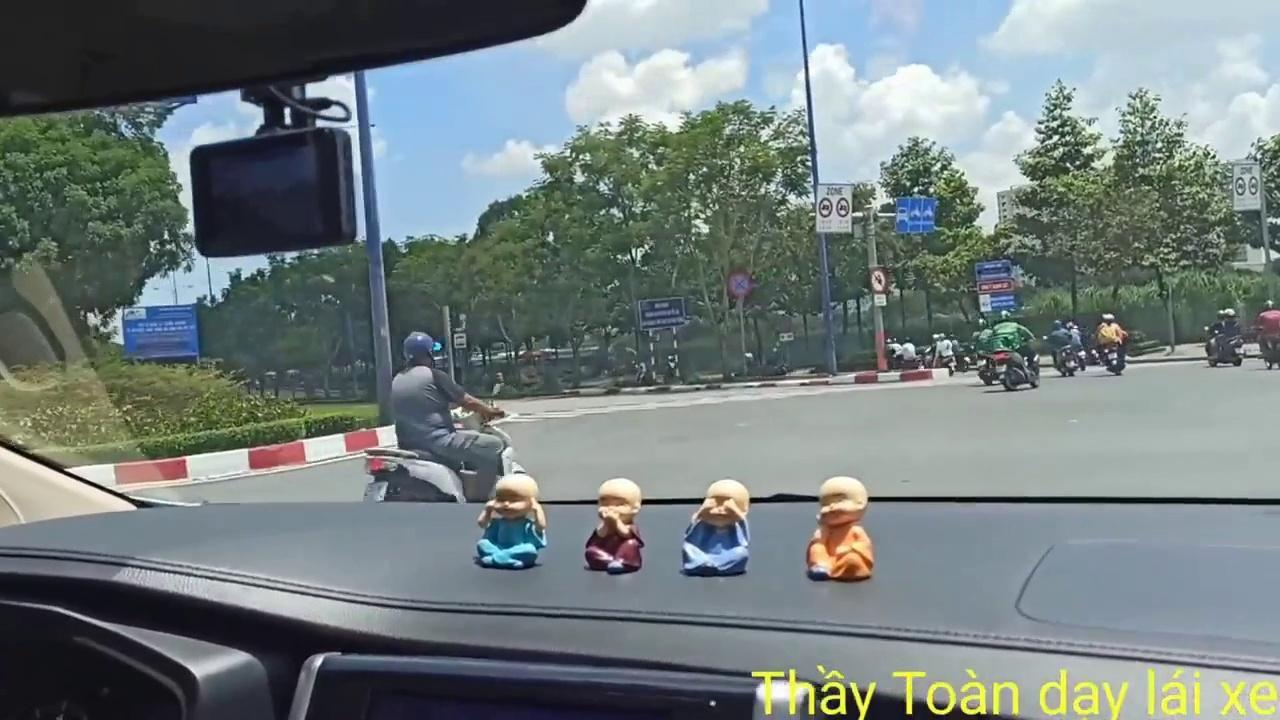Biển phụ: (454, 333, 467, 349)
Cấm cac phương tiện hoạt động trong khung giờ cố định: (814, 180, 853, 235)
Cấm dừng - Cấm đỗ: (727, 268, 751, 297)
Cấm xe máy: (868, 265, 890, 294)
Khác: (120, 302, 204, 362), (974, 259, 1017, 312)
Làn đường cho từng xe: (894, 196, 938, 236)
